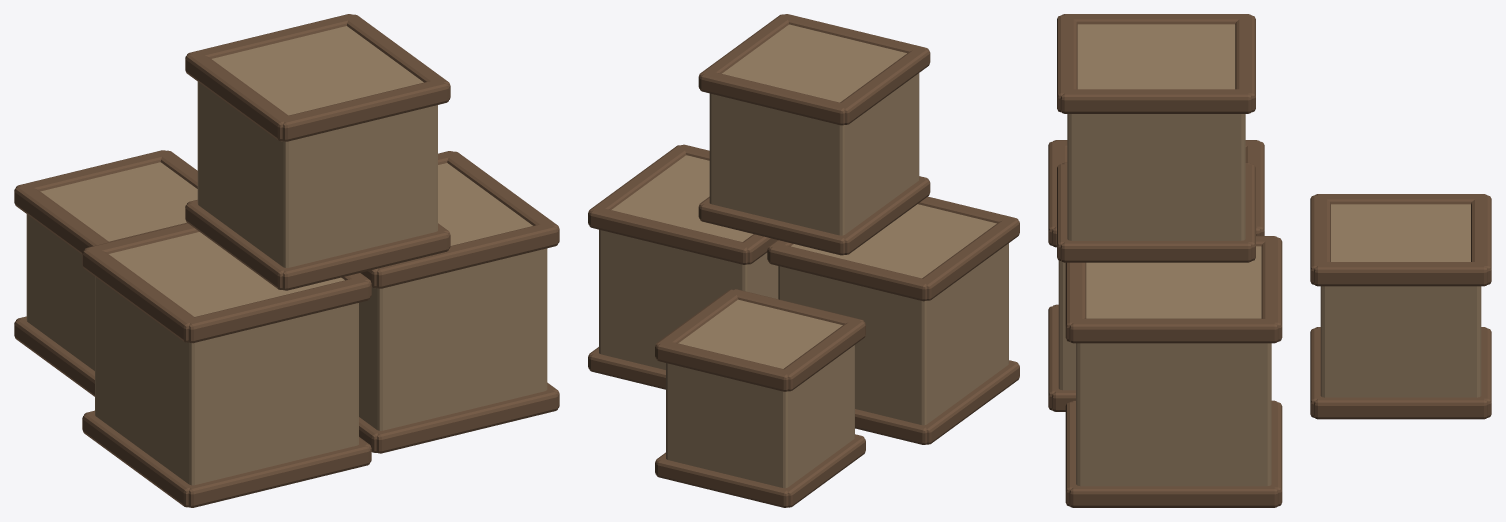
File: CrateStack.fbx
The picture shows the model from 3 angles, left to right: view 1: azimuth 30°, elevation 25°; view 2: azimuth 150°, elevation 25°; view 3: azimuth 270°, elevation 25°; orthographic projection. The views are drawn at different scales.
Parts seen in each view (by area): view 1: CrateStack; view 2: CrateStack; view 3: CrateStack.
Part boxes in pixels (x1,y1,x2,y2): CrateStack: (14,14,559,507); CrateStack: (588,14,1019,507); CrateStack: (1048,14,1491,507).
Size of the model in its own units: 1.27 by 1.13 by 1.27.
